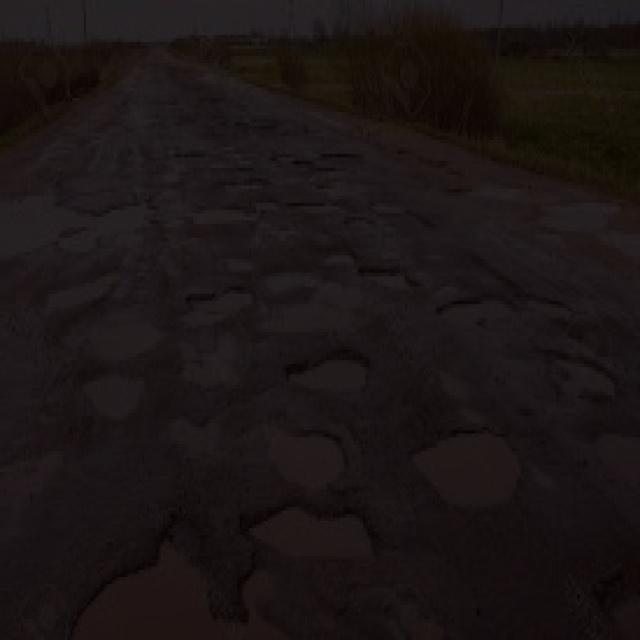Pothole: (45, 504, 295, 640), (241, 403, 358, 498), (418, 422, 530, 516), (34, 190, 167, 262), (232, 503, 378, 563), (426, 283, 580, 331), (540, 335, 628, 406), (576, 551, 640, 640), (61, 309, 168, 360), (71, 360, 154, 422), (280, 346, 386, 394), (309, 245, 415, 290), (185, 200, 263, 242), (180, 275, 260, 315), (208, 162, 274, 203), (364, 199, 436, 231), (289, 150, 361, 174), (226, 101, 276, 134), (288, 194, 335, 214), (177, 147, 208, 161)
